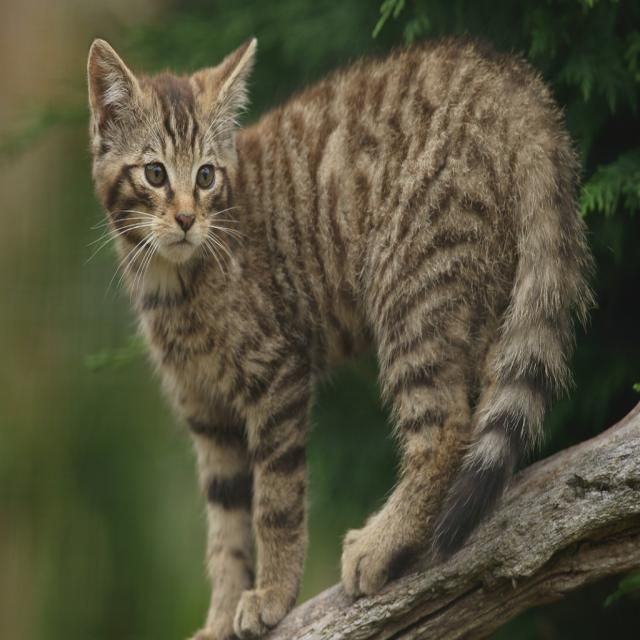Cat: (82, 34, 597, 639)
